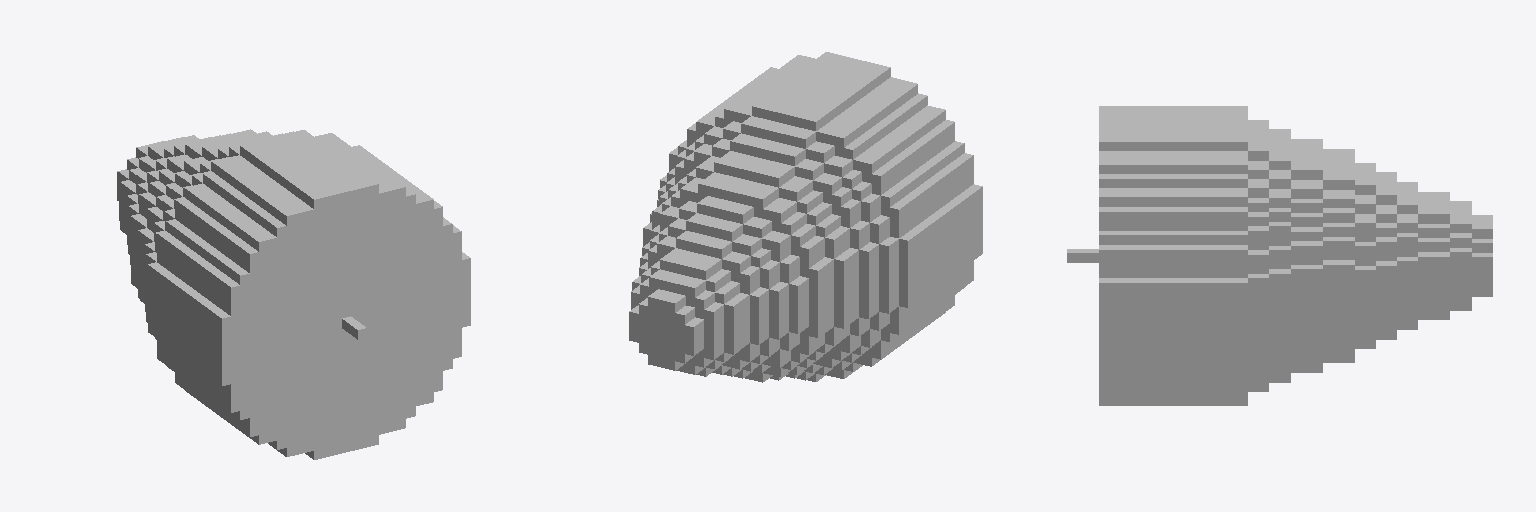
The model's file is Motor.obj.
3 renders of one model, left to right at view 1: azimuth 30°, elevation 25°; view 2: azimuth 150°, elevation 25°; view 3: azimuth 270°, elevation 25°, orthographic.
Visible parts, largest first — view 1: object 1; view 2: object 1; view 3: object 1.
Boxes of the visible parts, <box> form: object 1: <box>117,129,470,459</box>; object 1: <box>629,52,982,382</box>; object 1: <box>1067,106,1492,405</box>.
Size of the model in its own units: 2.7 by 2.7 by 4.